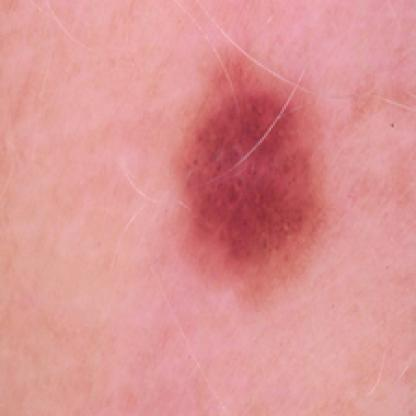benign: (167, 67, 366, 278)
